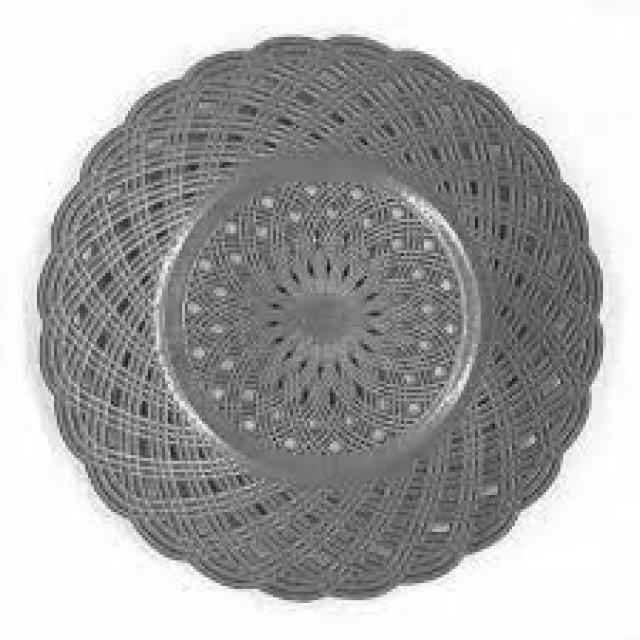dish: (14, 9, 626, 624)
